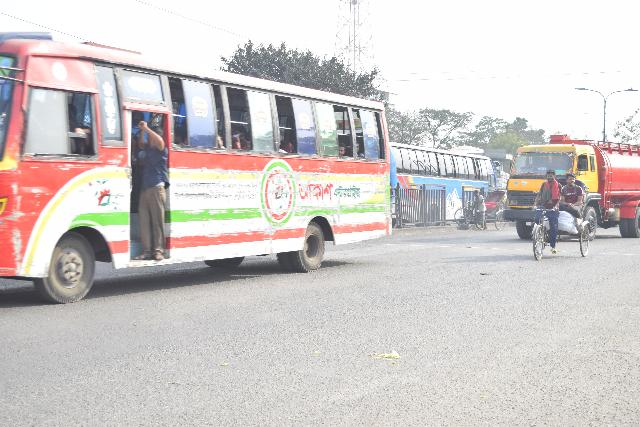bus: (0, 46, 394, 304), (388, 139, 493, 211)
truck: (503, 139, 640, 247)
